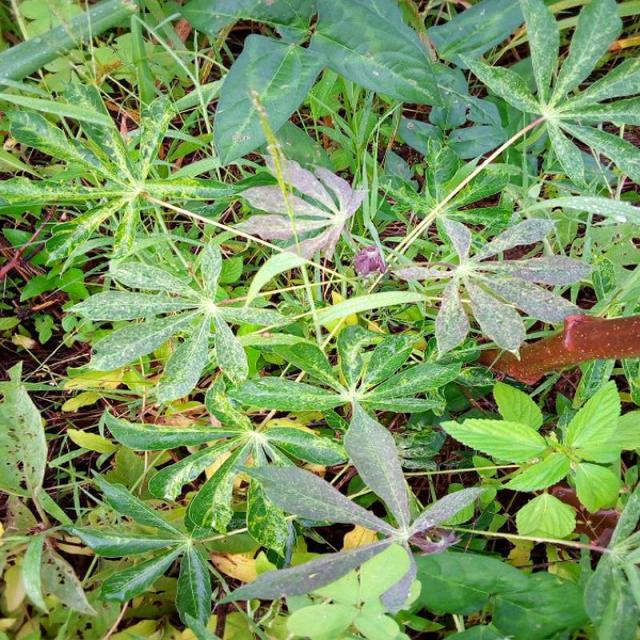cassava leaf: (1, 1, 638, 637), (212, 32, 326, 167)
